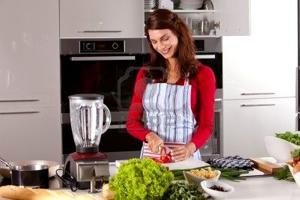person: (124, 7, 219, 160)
